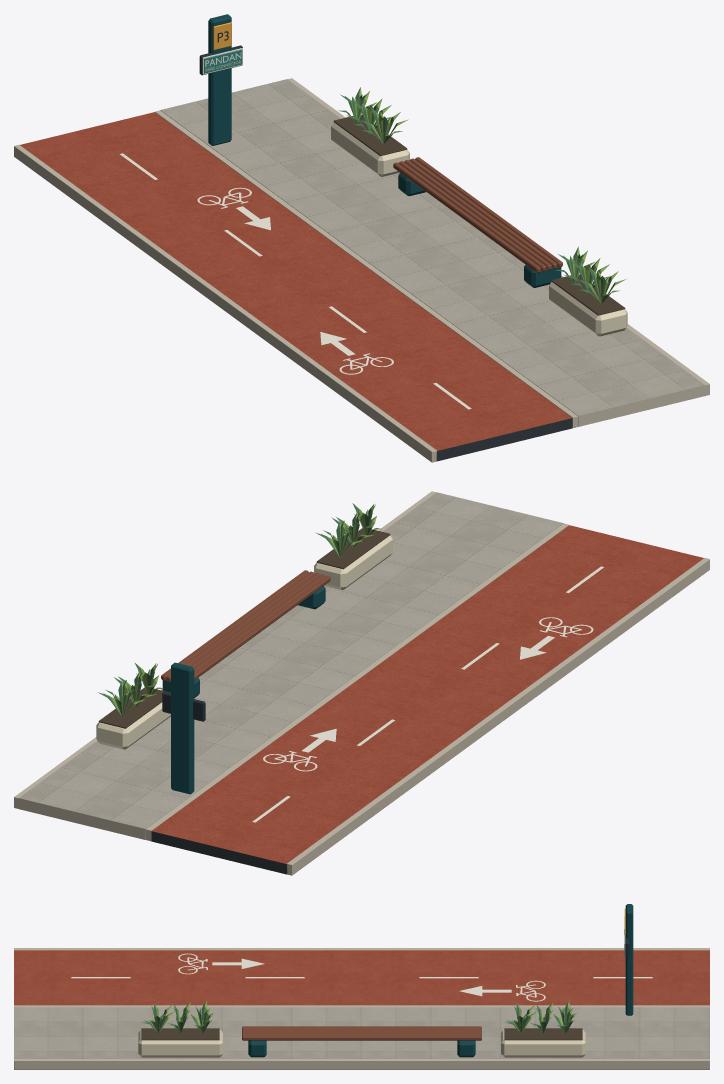
3 renders of one model, top to bottom at view 1: azimuth 30°, elevation 25°; view 2: azimuth 150°, elevation 25°; view 3: azimuth 270°, elevation 25°, orthographic. The views are drawn at different scales.
Visible parts, largest first — view 1: Resin Track, Walkway, Flush Edging, Planter Basins, Balau Seat, Trail Marker, Pandan Rosettes, Cycle Stencils, Seat Plinths; view 2: Resin Track, Walkway, Flush Edging, Planter Basins, Balau Seat, Trail Marker, Pandan Rosettes, Cycle Stencils; view 3: Resin Track, Walkway, Flush Edging, Planter Basins, Balau Seat, Pandan Rosettes, Cycle Stencils, Trail Marker, Seat Plinths, Road Markings.
Part boxes in pixels (<box>): Resin Track: <box>20,112,572,461</box>; Walkway: <box>160,79,704,426</box>; Flush Edging: <box>14,78,709,462</box>; Planter Basins: <box>331,115,627,336</box>; Balau Seat: <box>393,157,562,272</box>; Trail Marker: <box>199,14,242,145</box>; Pandan Rosettes: <box>338,87,626,303</box>; Cycle Stencils: <box>197,187,393,374</box>; Seat Plinths: <box>398,173,561,287</box>; Resin Track: <box>151,525,703,874</box>; Walkway: <box>19,492,563,839</box>; Flush Edging: <box>14,491,709,875</box>; Planter Basins: <box>96,528,392,749</box>; Balau Seat: <box>161,570,330,681</box>; Trail Marker: <box>162,662,205,794</box>; Pandan Rosettes: <box>98,503,381,716</box>; Cycle Stencils: <box>263,617,593,771</box>; Resin Track: <box>14,950,709,1005</box>; Walkway: <box>14,1007,709,1058</box>; Flush Edging: <box>14,948,709,1069</box>; Planter Basins: <box>138,1028,585,1057</box>; Balau Seat: <box>242,1026,481,1040</box>; Pandan Rosettes: <box>142,1000,576,1033</box>; Cycle Stencils: <box>178,953,545,1001</box>; Trail Marker: <box>624,904,633,1015</box>; Seat Plinths: <box>248,1040,475,1057</box>; Road Markings: <box>71,977,652,978</box>.
Size of the model in its own units: 6.16 by 2.88 by 16.
Materials: 16 (2 with a texture image).
